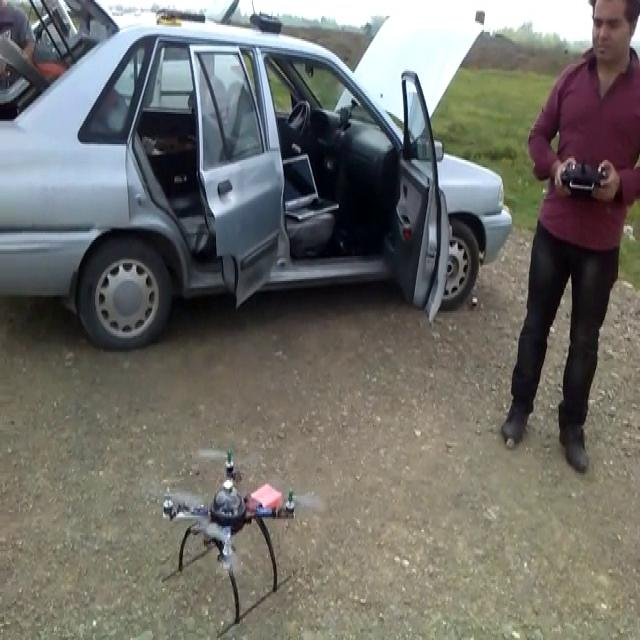drone: (151, 439, 329, 638)
